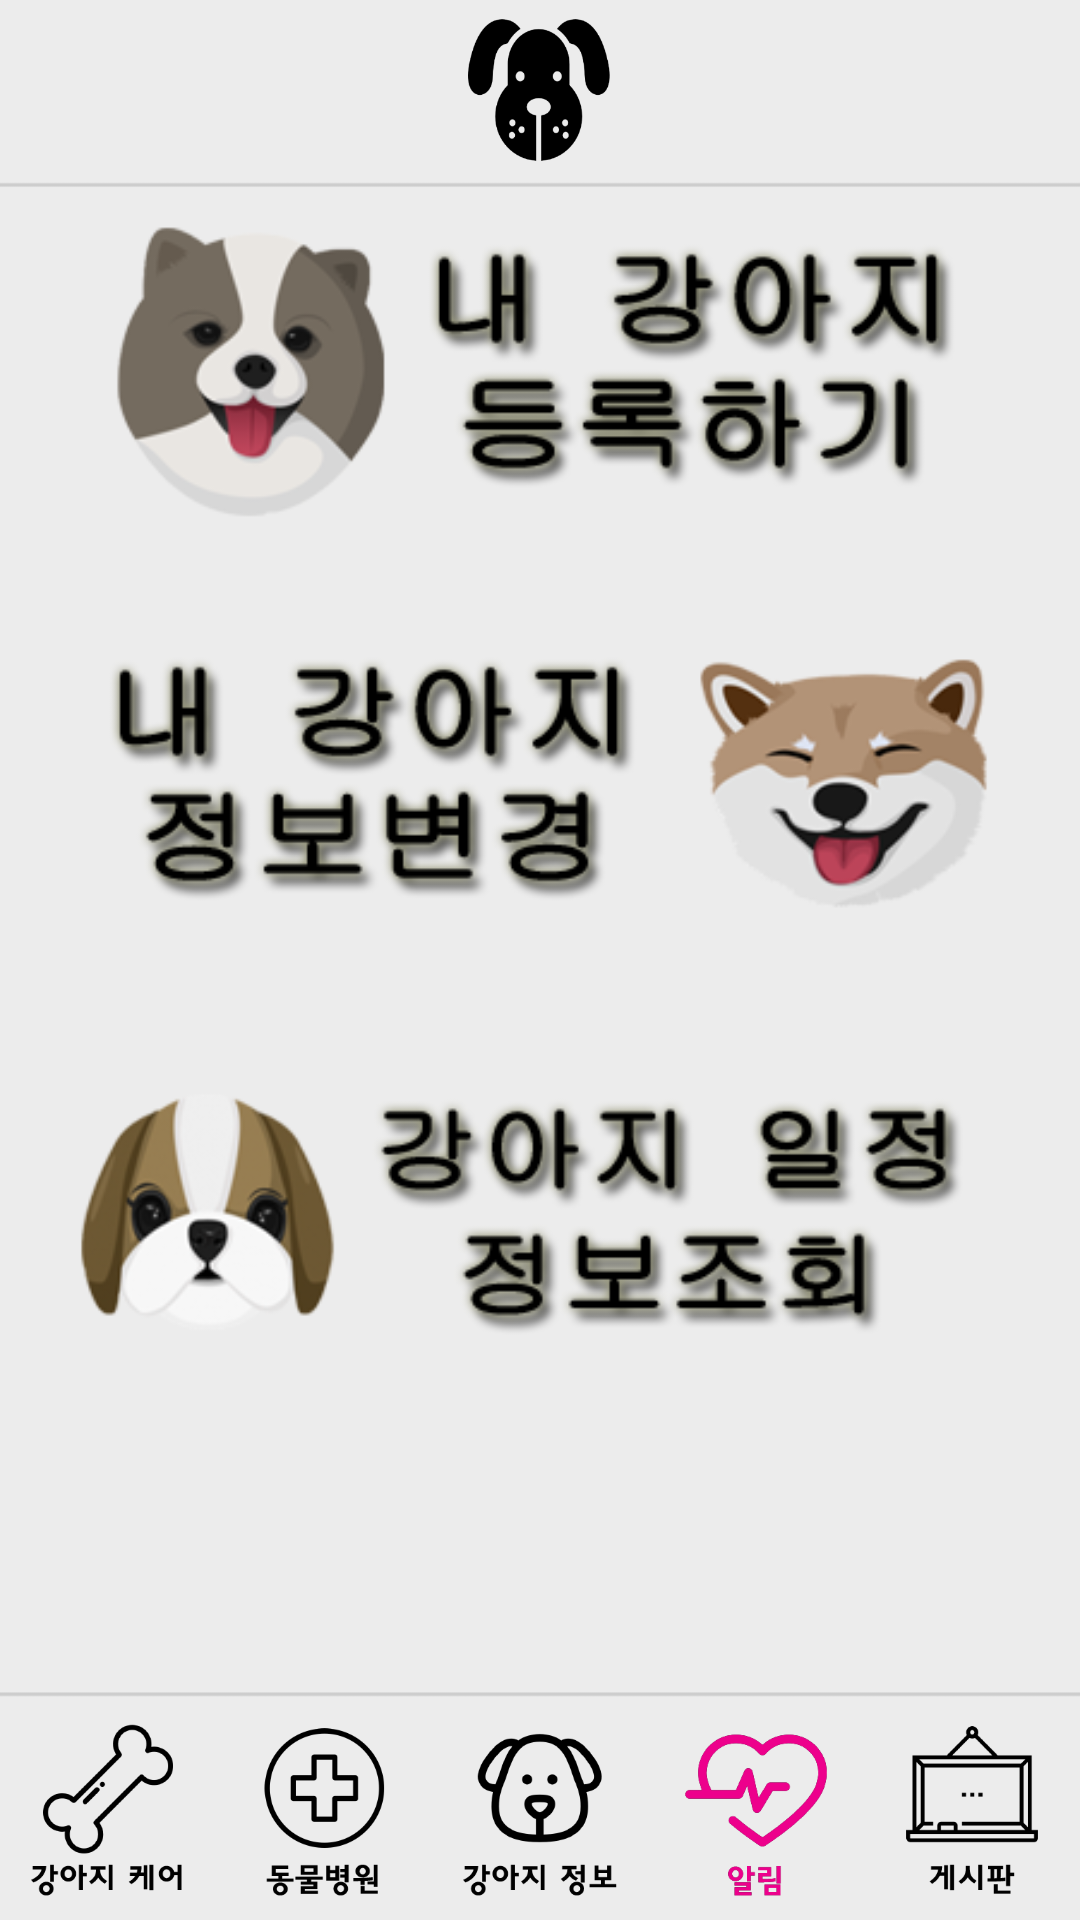

Where to tap for icons on this 1080×1920 app screen, as (x=x, y=y):
dogdogface: (x=539, y=90)
